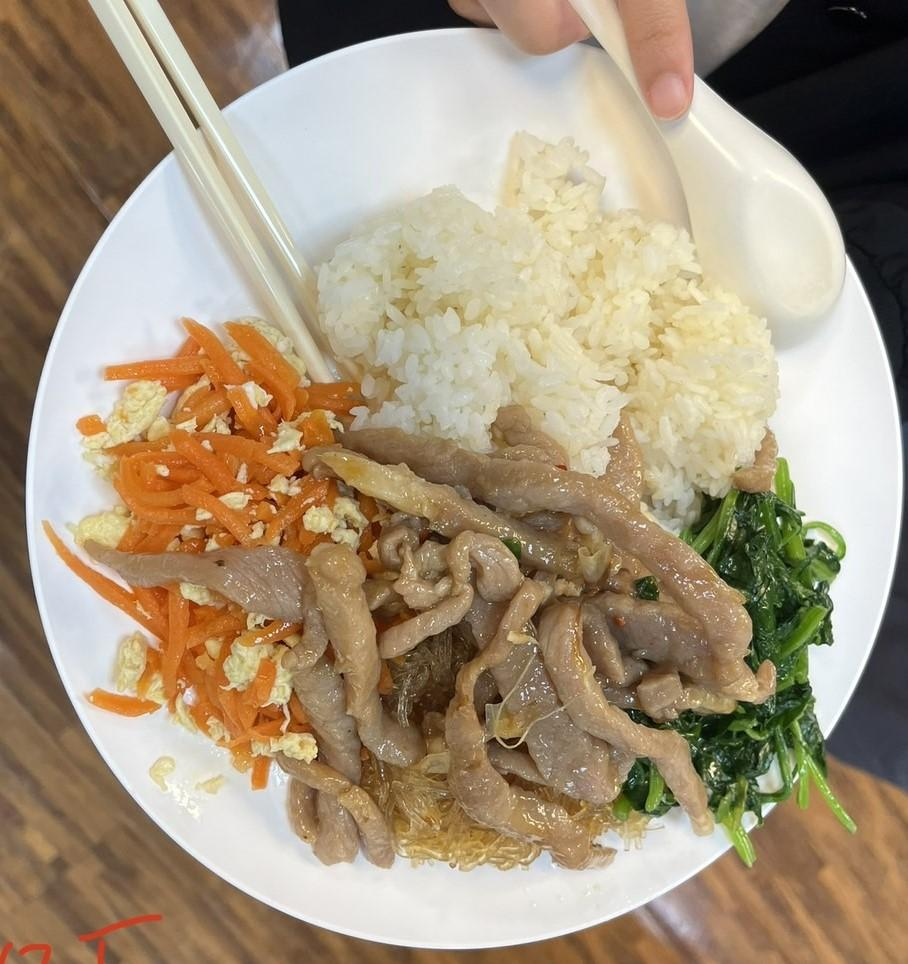big fried chicken leg: (4, 20, 908, 961)
big herbal chicken leg: (314, 132, 775, 484)
braised fish fillet: (85, 321, 338, 773), (631, 472, 837, 815), (359, 760, 602, 876)
braised pork: (101, 436, 762, 850)
